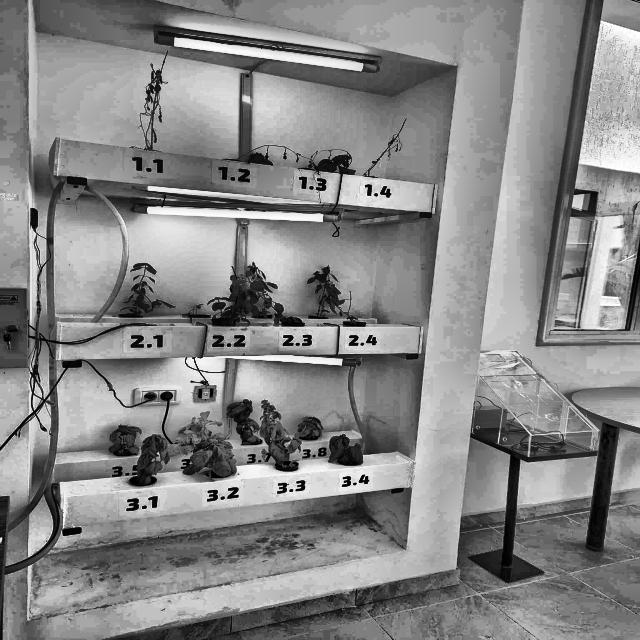plants: (246, 262, 305, 322), (362, 118, 412, 178), (141, 50, 169, 154), (262, 400, 302, 472), (214, 269, 266, 324), (319, 264, 365, 323), (166, 412, 222, 456), (182, 435, 236, 477), (231, 146, 320, 171), (305, 263, 343, 319), (133, 434, 171, 483), (124, 261, 157, 314), (225, 399, 262, 445), (326, 434, 364, 466), (108, 426, 143, 458), (308, 149, 357, 171), (297, 416, 328, 447), (182, 300, 212, 318), (246, 150, 272, 166)
